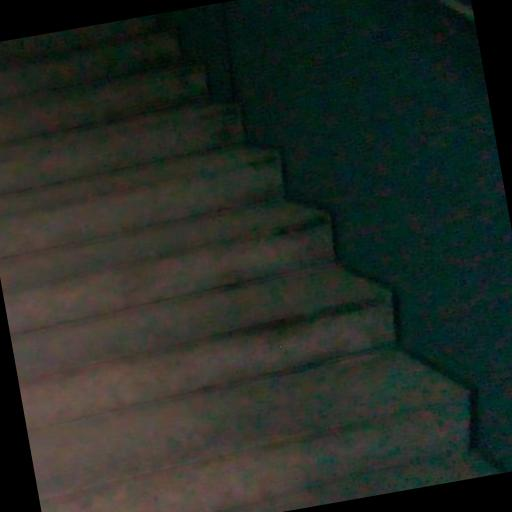stairs: (0, 15, 497, 511)
